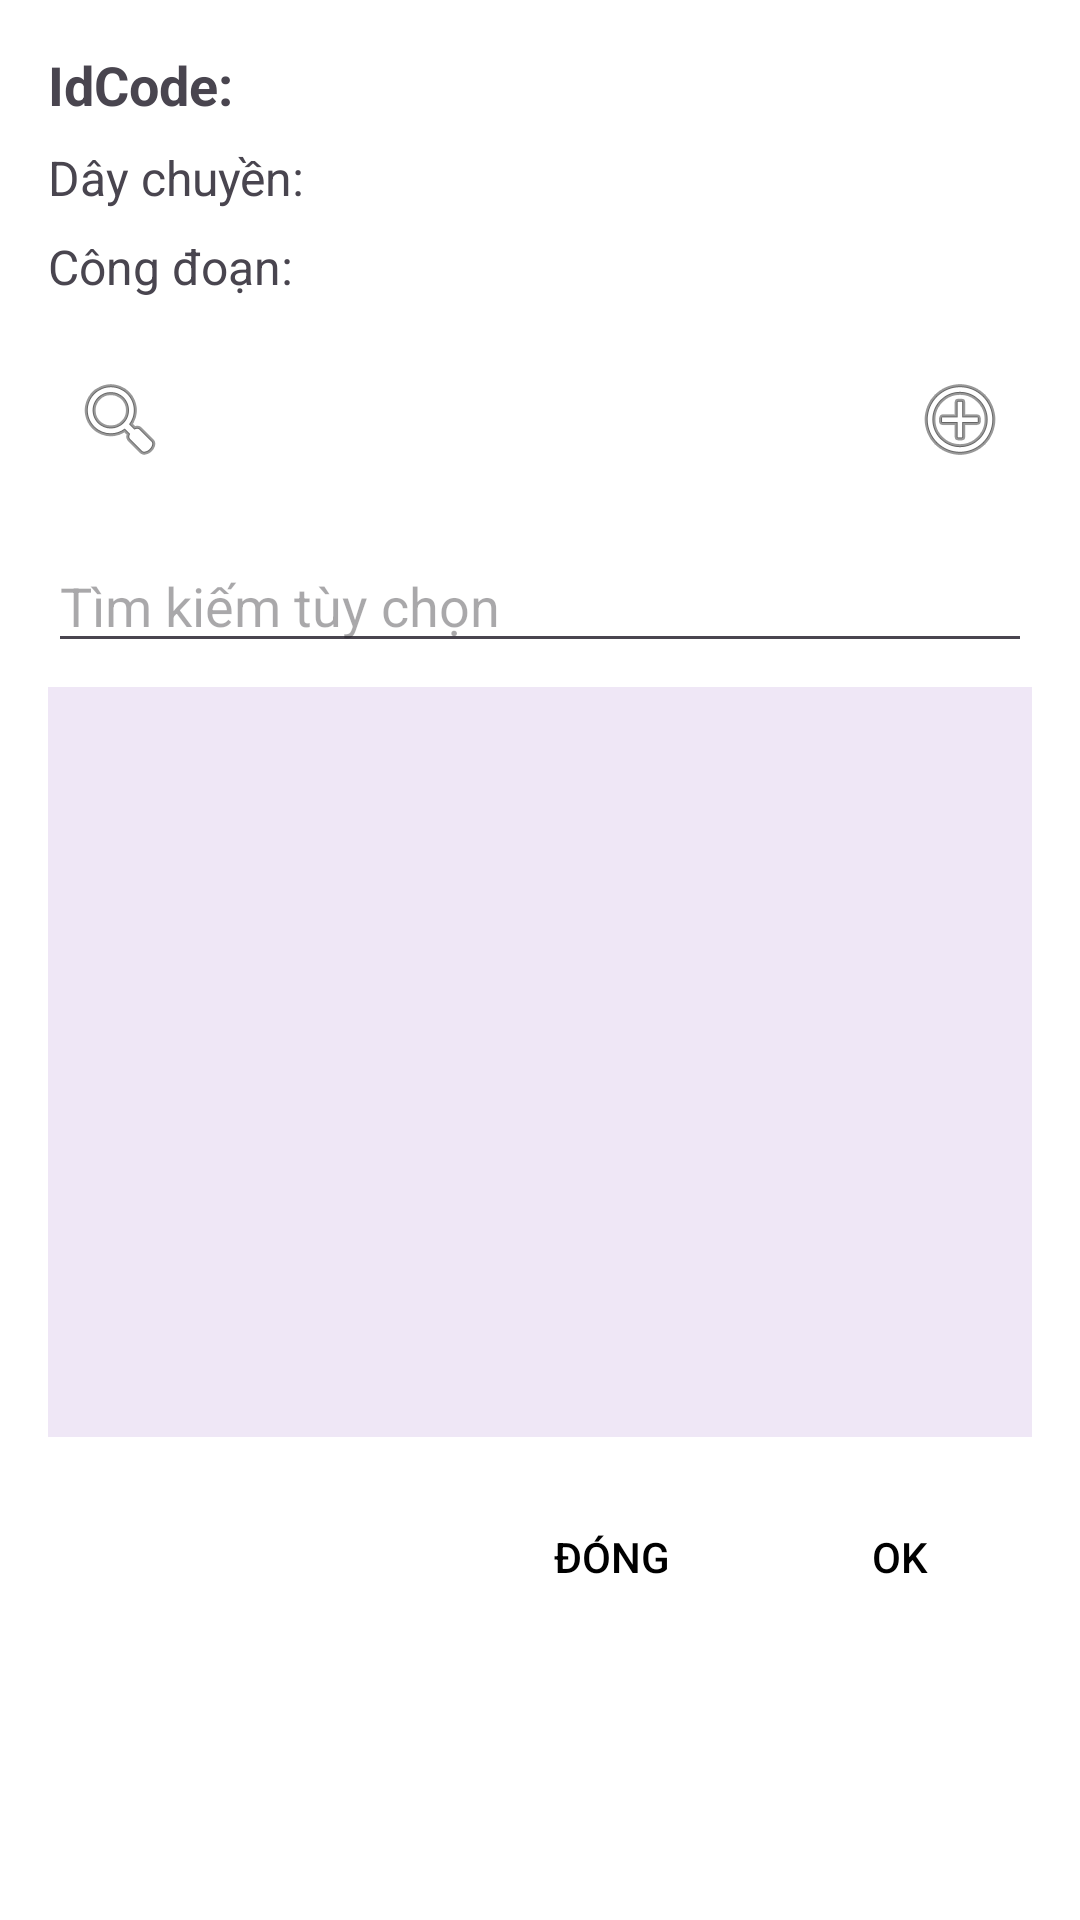

Icon click points for this 1080 x 1920 phone screenshot, format (x,y):
add: (960,419)
search: (120,419)
